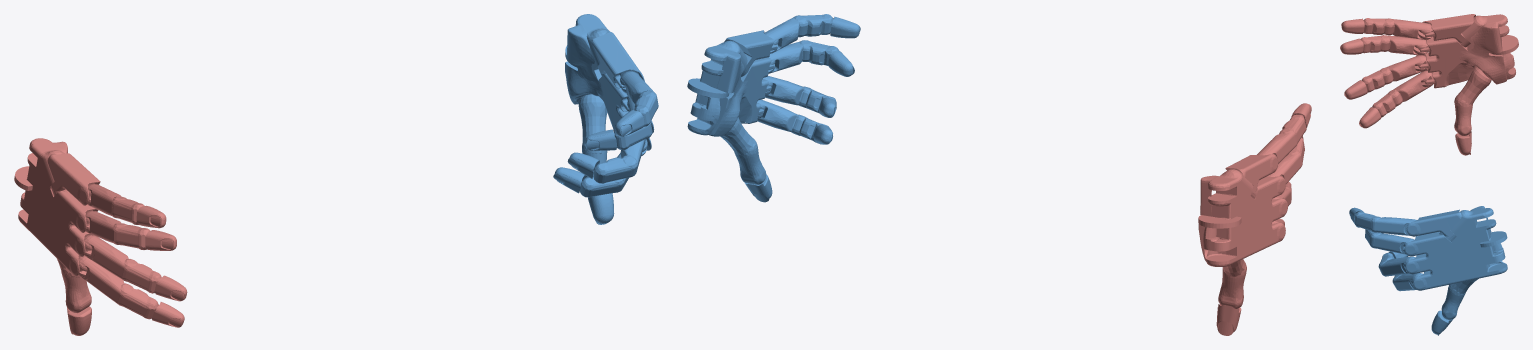
Rendered from drinking_utensil_pc.glb.
3 views of the same model, side by side, from view 1: azimuth 30°, elevation 25°; view 2: azimuth 150°, elevation 25°; view 3: azimuth 270°, elevation 25° (orthographic). The views are drawn at different scales.
Visible parts, largest first — view 1: left_shadow_hand, right_shadow_hand; view 2: right_shadow_hand, left_shadow_hand; view 3: left_shadow_hand, right_shadow_hand.
Boxes of the visible parts, x1,y1,x2,y2 form: left_shadow_hand: [14, 138, 187, 335]; right_shadow_hand: [553, 14, 658, 224]; right_shadow_hand: [687, 14, 860, 202]; left_shadow_hand: [1198, 103, 1311, 335]; left_shadow_hand: [1340, 14, 1518, 155]; right_shadow_hand: [1349, 206, 1507, 335].
Size of the model in its own units: 0.5846 by 0.1744 by 0.212.
